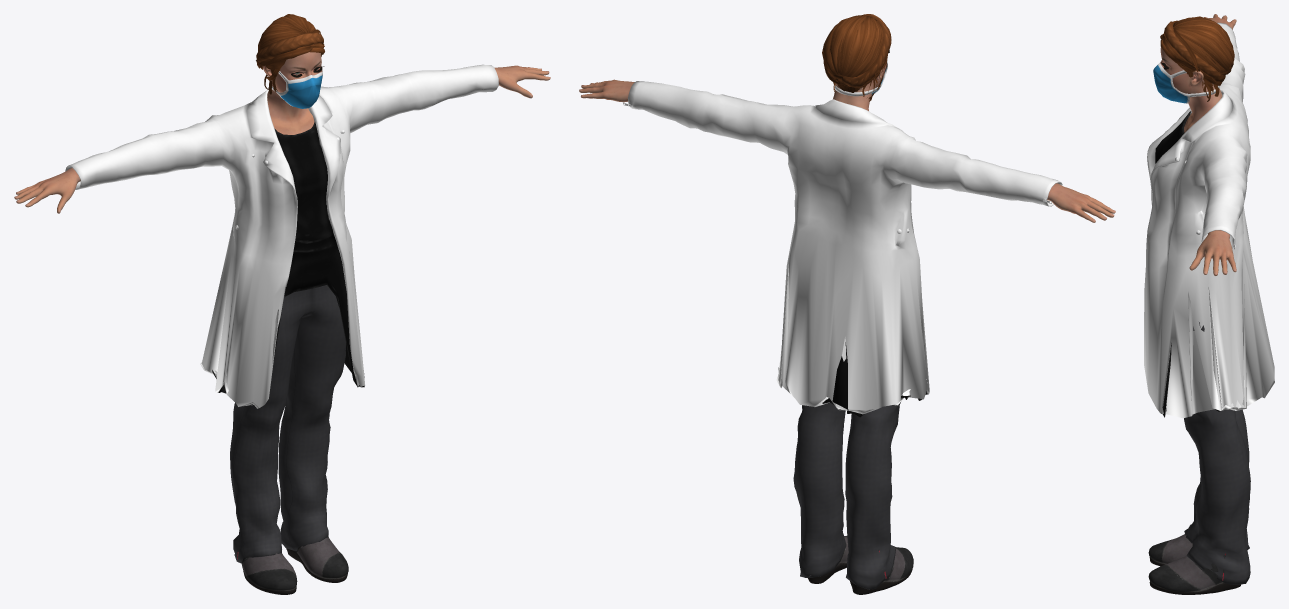
File: NeedleWoman.obj
3 views of the same model, side by side, from view 1: azimuth 30°, elevation 25°; view 2: azimuth 150°, elevation 25°; view 3: azimuth 270°, elevation 25° (orthographic).
Parts seen in each view (by area): view 1: Tops, Bottoms, Body, Shoes, Hair, Masks; view 2: Tops, Bottoms, Hair, Body, Shoes; view 3: Tops, Bottoms, Hair, Shoes, Body, Masks.
Part boxes in pixels (x1,y1,x2,y2): Tops: (65,64,498,408); Bottoms: (230,285,345,563); Body: (14,52,550,213); Shoes: (237,537,348,594); Hair: (256,14,324,94); Masks: (272,65,322,108); Tops: (623,81,1062,417); Bottoms: (793,402,900,589); Hair: (822,14,891,101); Body: (579,64,1115,222); Shoes: (808,536,913,594); Tops: (1144,22,1274,418); Bottoms: (1184,322,1250,584); Hair: (1160,16,1234,101); Shoes: (1148,534,1241,594); Body: (1160,14,1236,275); Masks: (1153,62,1219,103).
Size of the model in its own units: 179 by 178 by 38.05.
1 material, 1 textured.
